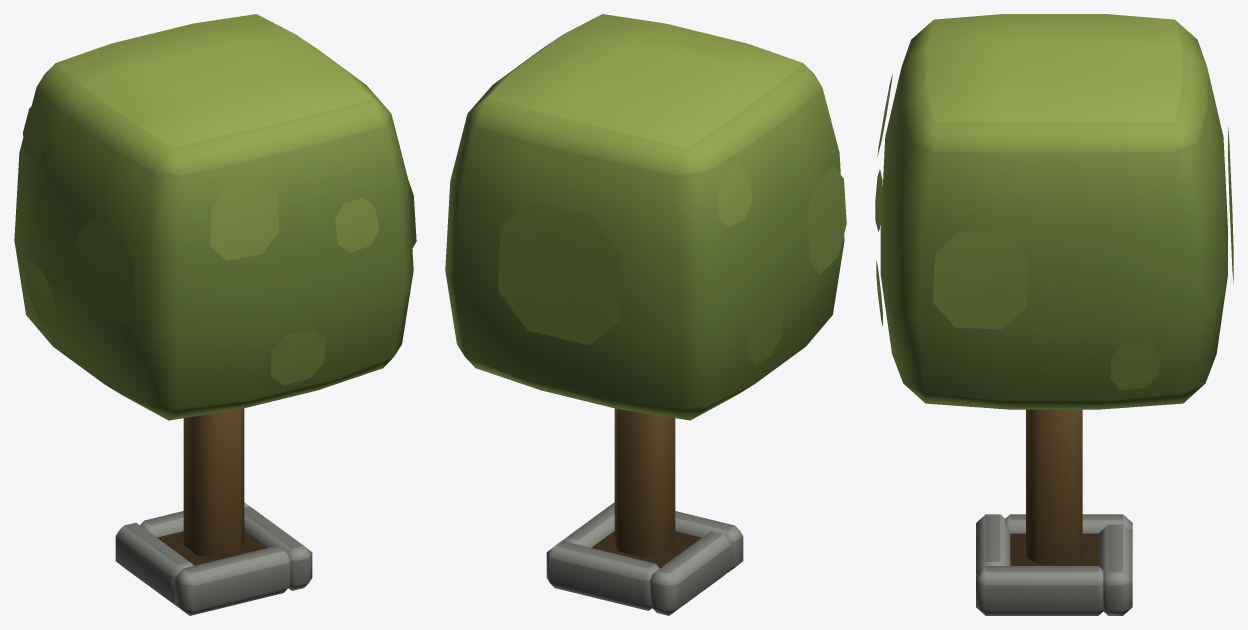
File: tree_4.fbx
3 views of the same model, side by side, from view 1: azimuth 30°, elevation 25°; view 2: azimuth 150°, elevation 25°; view 3: azimuth 270°, elevation 25° (orthographic). The views are drawn at different scales.
Visible parts, largest first — view 1: tree_4; view 2: tree_4; view 3: tree_4.
Boxes of the visible parts, x1,y1,x2,y2 form: tree_4: [14, 14, 416, 615]; tree_4: [445, 14, 846, 615]; tree_4: [875, 14, 1233, 615].
Bounding box in the file's own units: 371 × 592 × 366.
